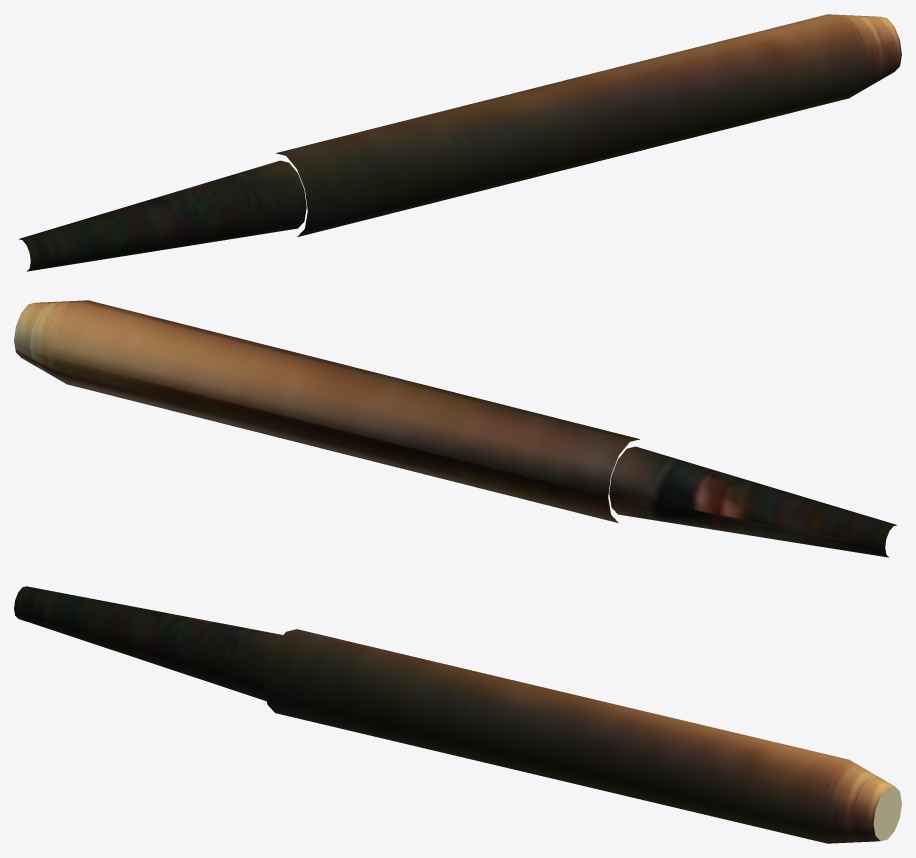
Rendered from torch.glb.
3 views of the same model, one above another, from view 1: azimuth 30°, elevation 25°; view 2: azimuth 150°, elevation 25°; view 3: azimuth 330°, elevation 25° (orthographic).
Visible parts, largest first — view 1: torch.ms3d.mo; view 2: torch.ms3d.mo; view 3: torch.ms3d.mo.
Part boxes in pixels (bbox=[...]): torch.ms3d.mo: bbox=[18, 14, 901, 271]; torch.ms3d.mo: bbox=[14, 300, 897, 557]; torch.ms3d.mo: bbox=[14, 586, 901, 843].
Bounding box in the file's own units: 35.85 × 3.28 × 3.11.
1 material, 1 textured.
